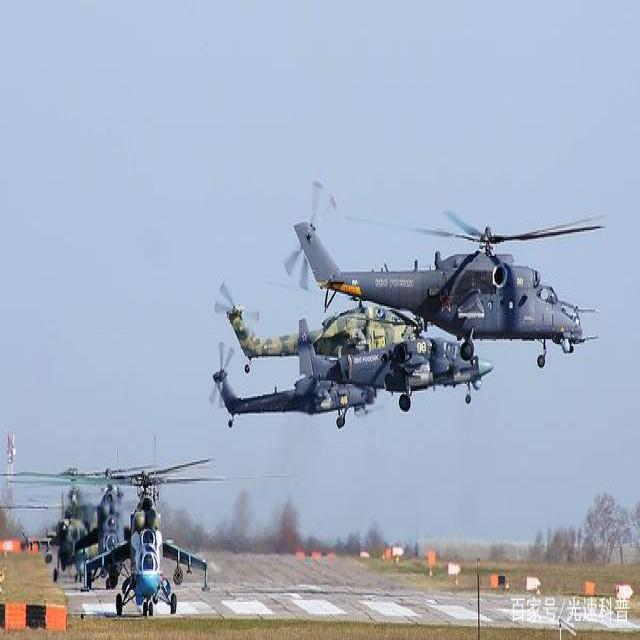MIL_HELO: (282, 180, 608, 371), (27, 453, 309, 618), (205, 278, 426, 367), (296, 318, 502, 408), (207, 332, 383, 430)
